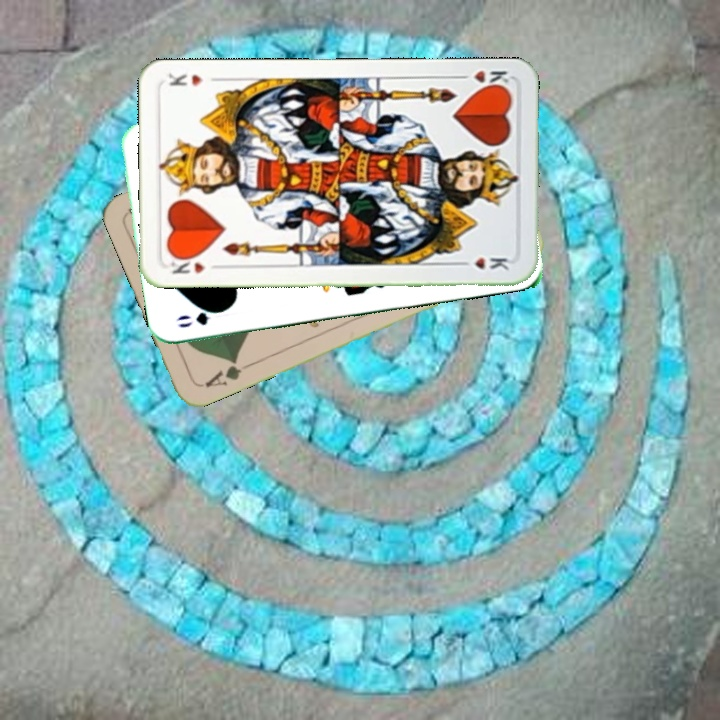GA: (201, 354, 255, 390)
GO: (172, 304, 231, 331)
HK: (453, 66, 512, 92), (166, 252, 223, 276)
